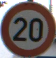20 km speed: (1, 1, 55, 58)
